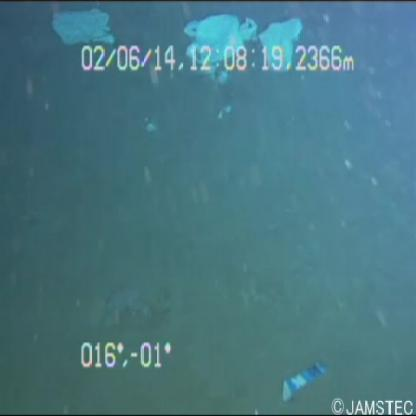Rác: (184, 11, 259, 84), (42, 3, 121, 56), (255, 16, 305, 78)
